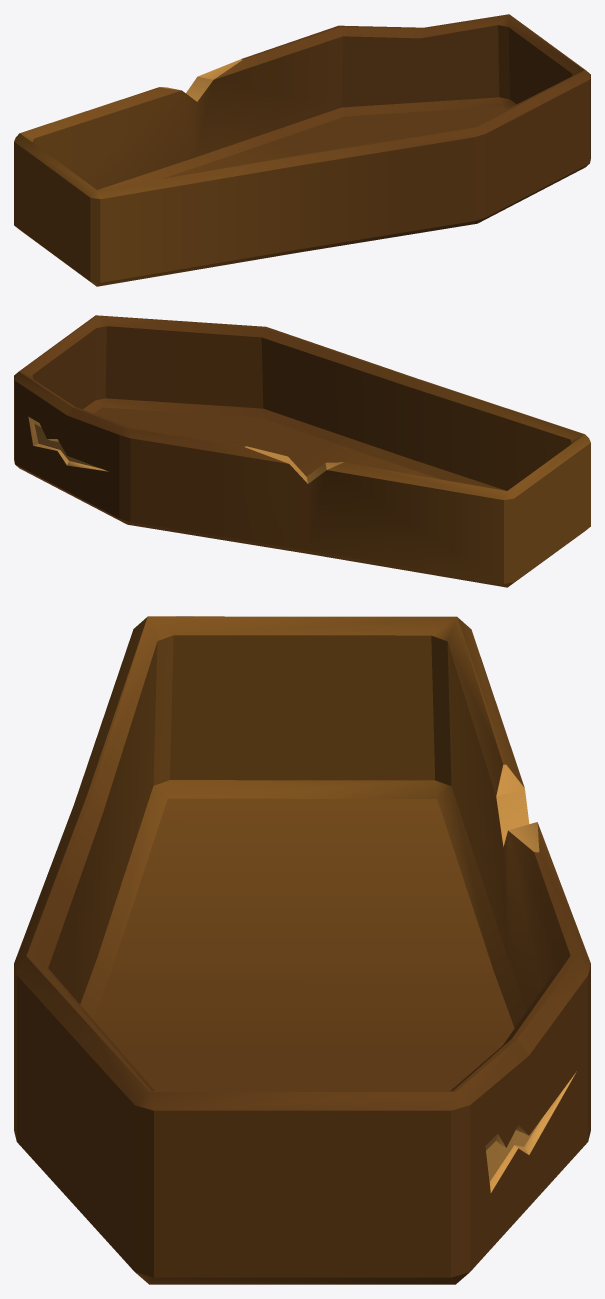
File: Cofin_1_1.obj
3 views of the same model, one above another, from view 1: azimuth 30°, elevation 25°; view 2: azimuth 150°, elevation 25°; view 3: azimuth 270°, elevation 25° (orthographic). The views are drawn at different scales.
Visible parts, largest first — view 1: Cofin_1_1; view 2: Cofin_1_1; view 3: Cofin_1_1.
Boxes of the visible parts, x1,y1,x2,y2 form: Cofin_1_1: (14,14,590,286); Cofin_1_1: (14,315,590,587); Cofin_1_1: (14,616,590,1284).
Bounding box in the file's own units: 1.32 × 0.2435 × 0.6612.
